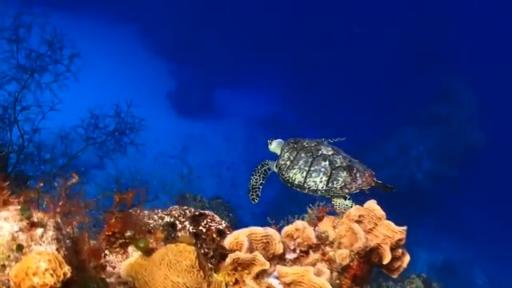Fish: (249, 138, 393, 211)
